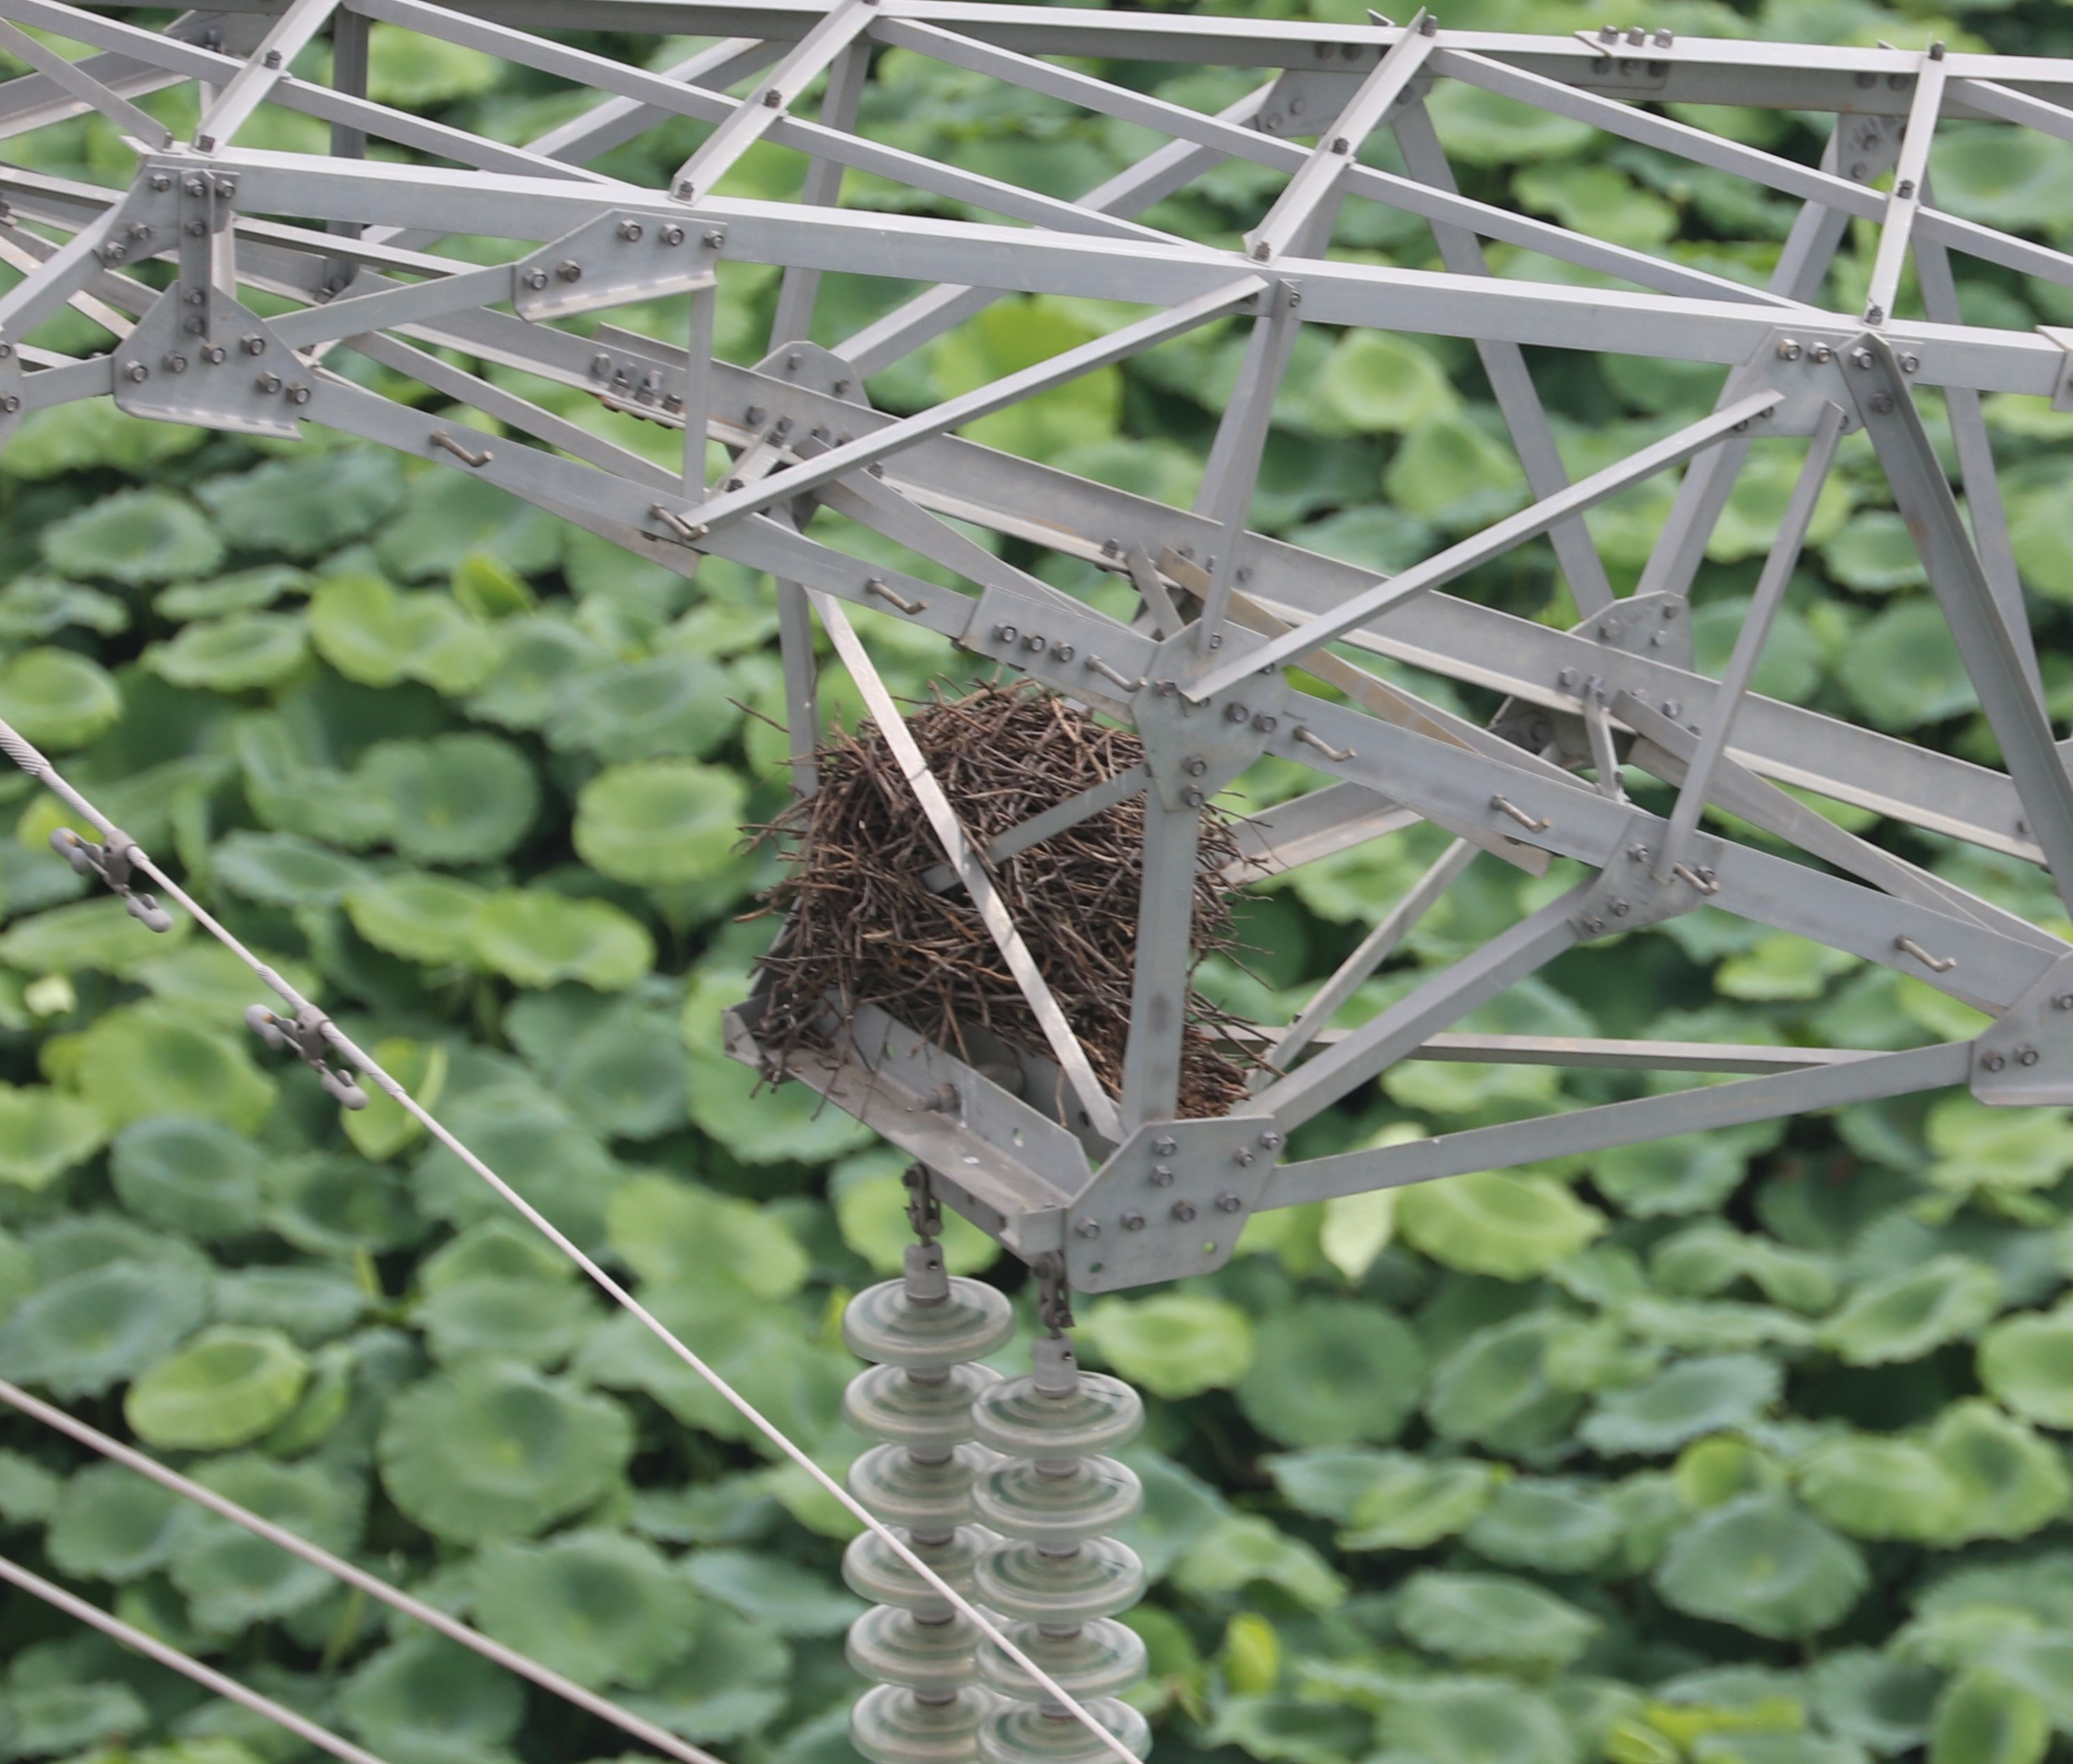niaowo: (717, 658, 1267, 1144)
